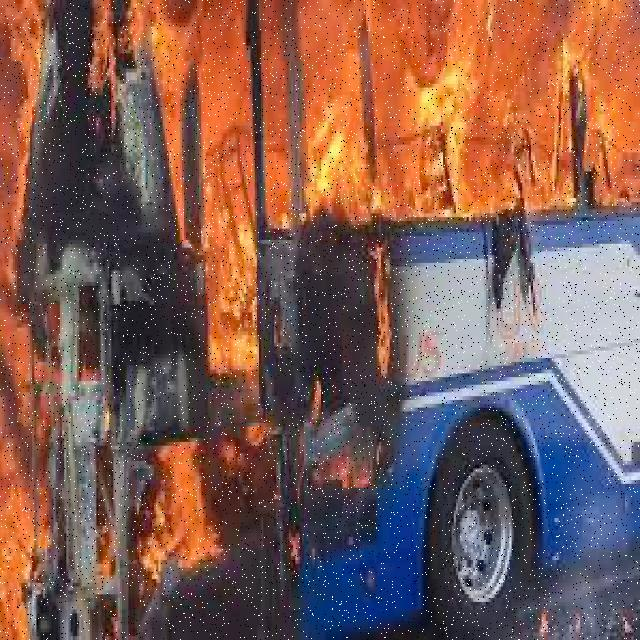fire: (193, 24, 640, 207), (142, 440, 270, 591)
